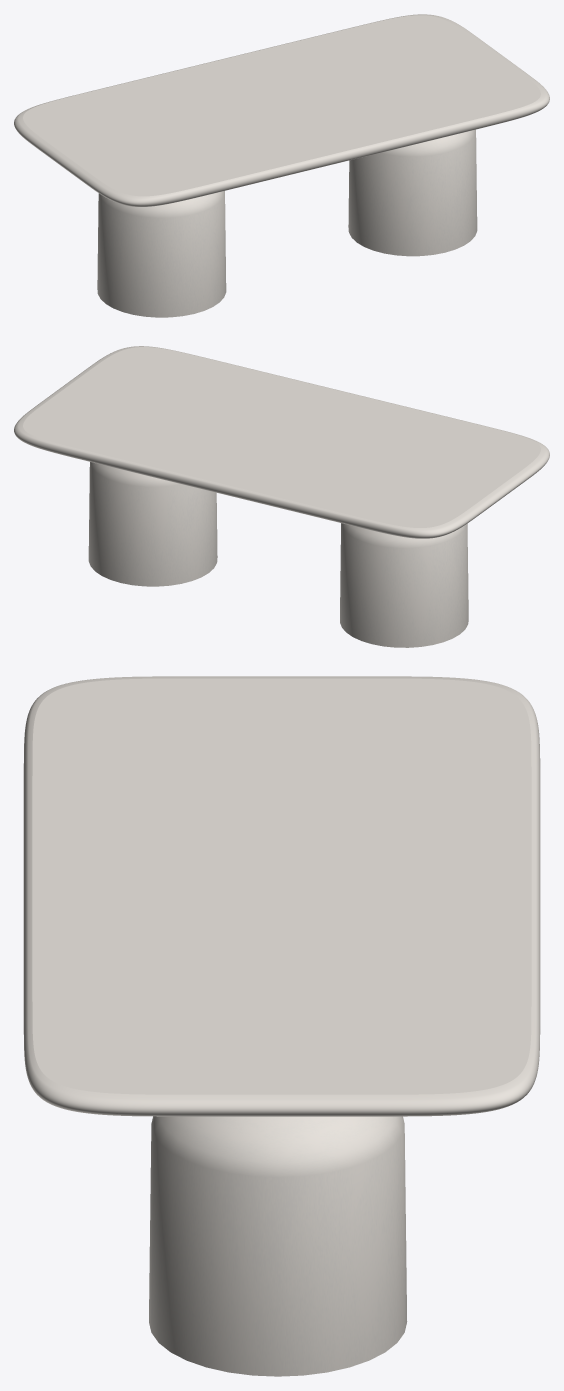
The model's file is pearlwhite_softrecta_round_tornado.glb.
3 renders of one model, top to bottom at view 1: azimuth 30°, elevation 25°; view 2: azimuth 150°, elevation 25°; view 3: azimuth 270°, elevation 25°, orthographic. The views are drawn at different scales.
Parts seen in each view (by area): view 1: round_softrecta, tornado; view 2: round_softrecta, tornado; view 3: round_softrecta, tornado.
Part boxes in pixels (x1,y1,x2,y2): round_softrecta: [14, 14, 549, 206]; tornado: [97, 129, 477, 317]; round_softrecta: [14, 346, 549, 538]; tornado: [88, 462, 468, 647]; round_softrecta: [23, 676, 540, 1116]; tornado: [149, 1116, 407, 1376].
Size of the model in its own units: 7.5 by 2.5 by 3.8.
Materials: 1 (1 with a texture image).
